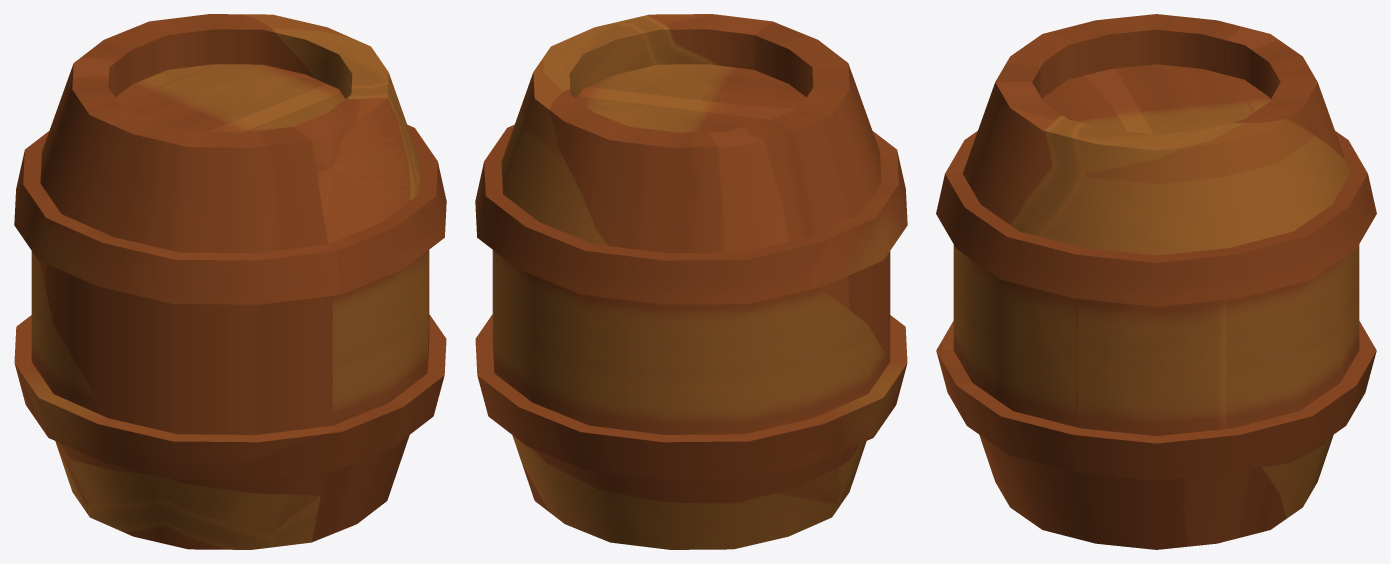
The model's file is barrel.fbx.
The picture shows the model from 3 angles, left to right: view 1: azimuth 30°, elevation 25°; view 2: azimuth 150°, elevation 25°; view 3: azimuth 270°, elevation 25°; orthographic projection.
Parts seen in each view (by area): view 1: Barile; view 2: Barile; view 3: Barile.
Boxes of the visible parts, x1,y1,x2,y2 form: Barile: (14,14,446,549); Barile: (475,14,907,549); Barile: (936,14,1376,549).
Size of the model in its own units: 90 by 90 by 90.
